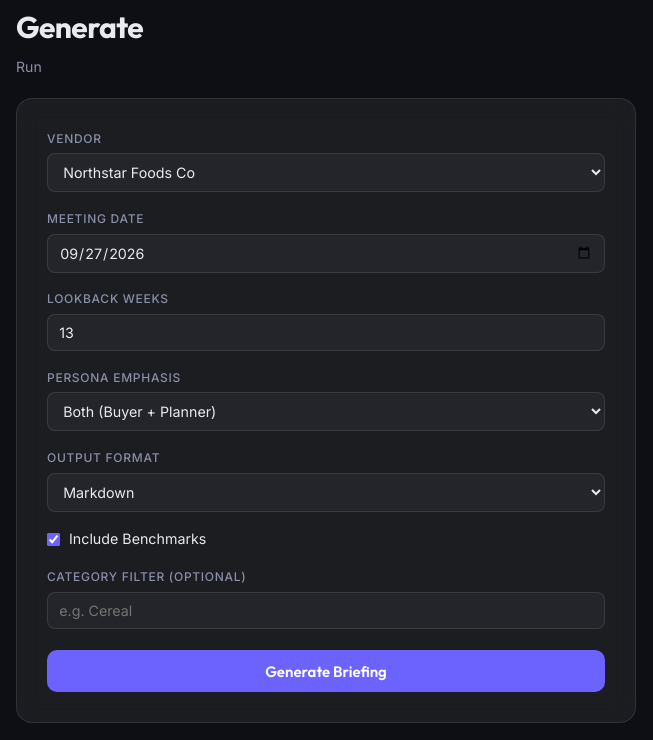
Test: BriefingCreateForm › renders live preview tokens as they arrive
(page scrolled)
Click the button "Generate Briefing".
click(326, 671)  # box [47, 650, 605, 692]
(page scrolled)
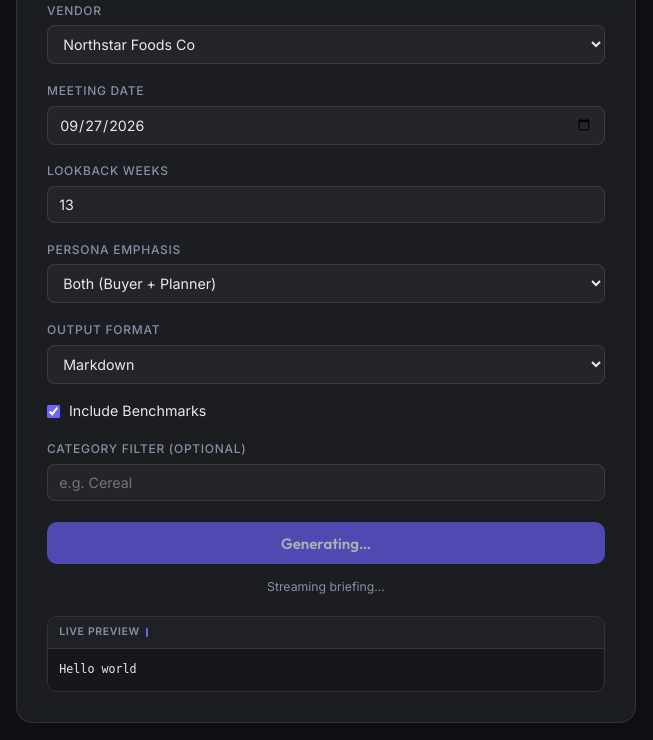
expect the text named "streaming preview" reads "Hello world": met, box [59, 662, 137, 676]
